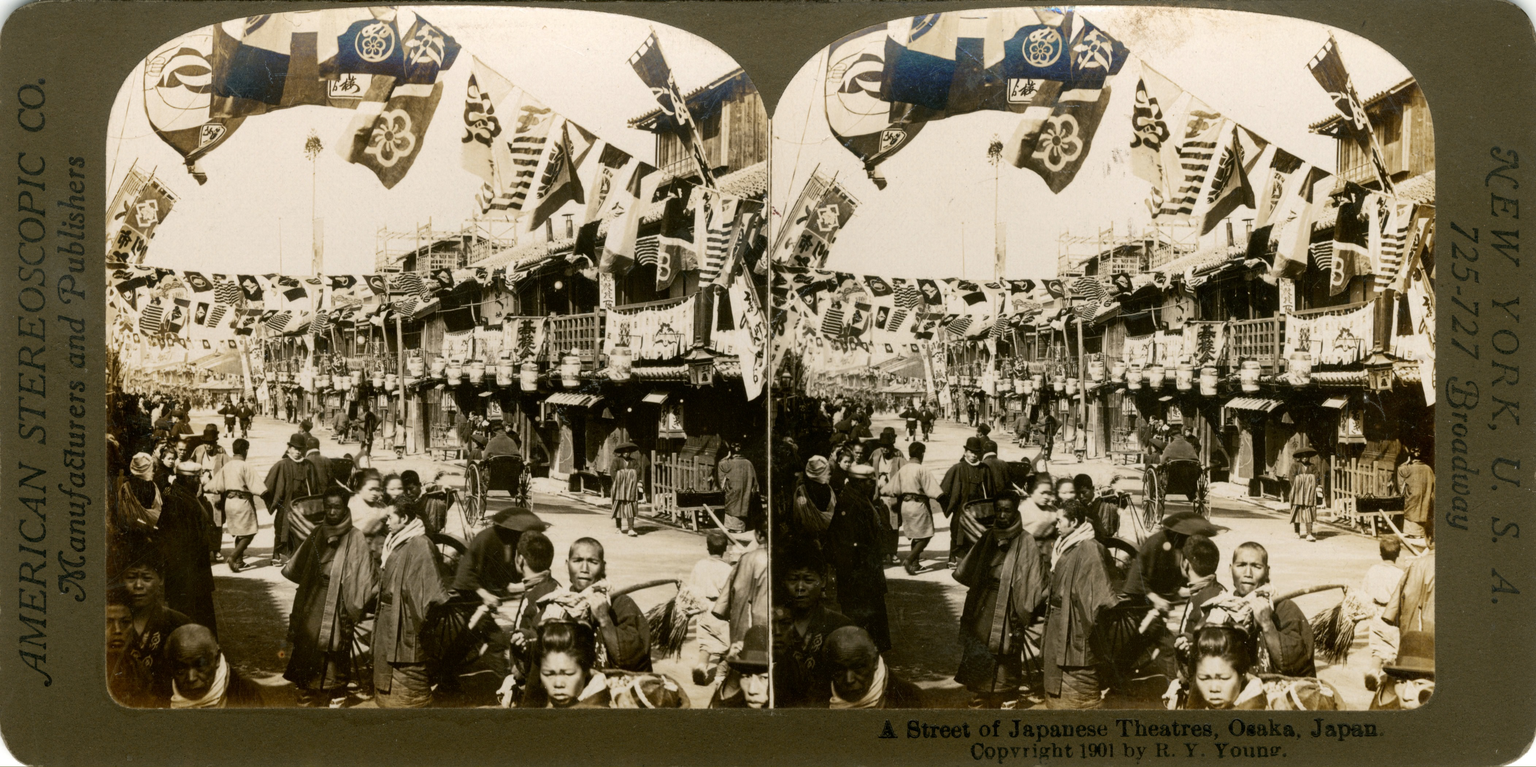half_image: (773, 5, 1436, 711), (106, 5, 769, 710)
